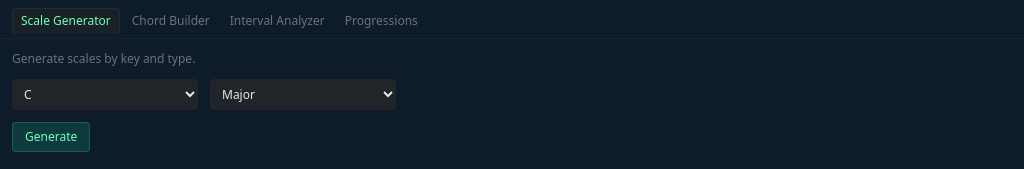
Test: MusicTheoryPanel › switches to Chord Builder on click
What coordinates should you click on to do the following:
click the button "Chord Builder"
I would click on:
 (171, 21)
Its box is [124,8,218,34].
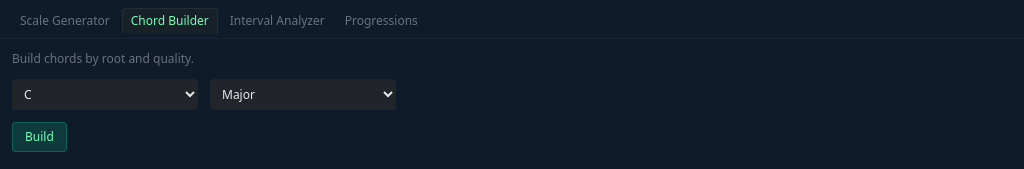
Check: the text "Build chords by root and quality." is shown, box [12,50,194,67]
